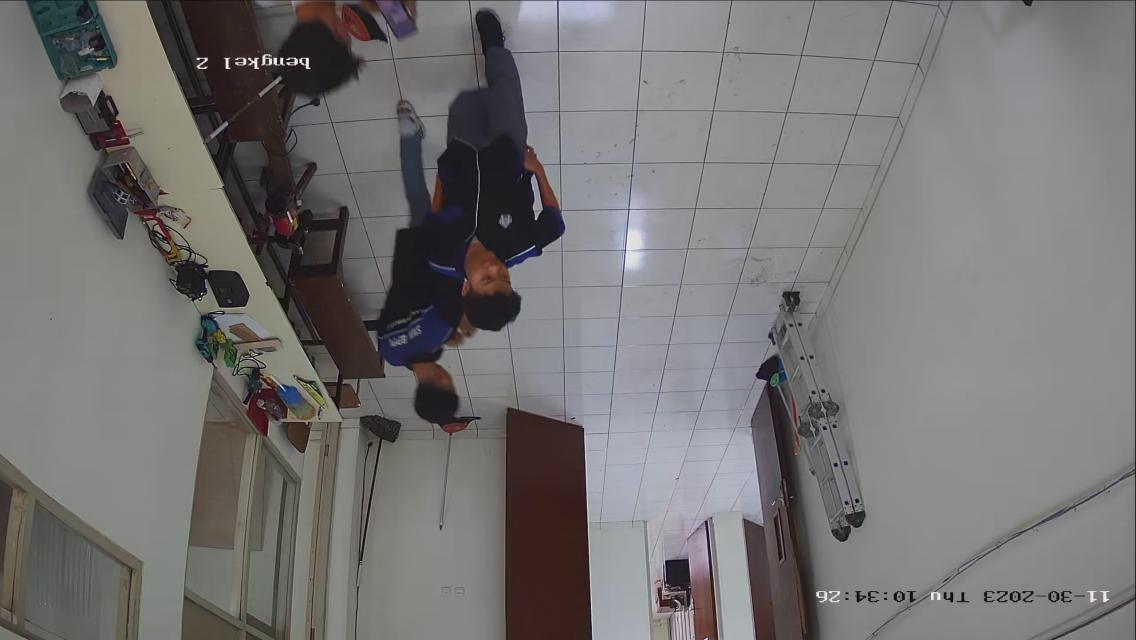Person-Crowd: (440, 5, 531, 327), (377, 106, 457, 433)
